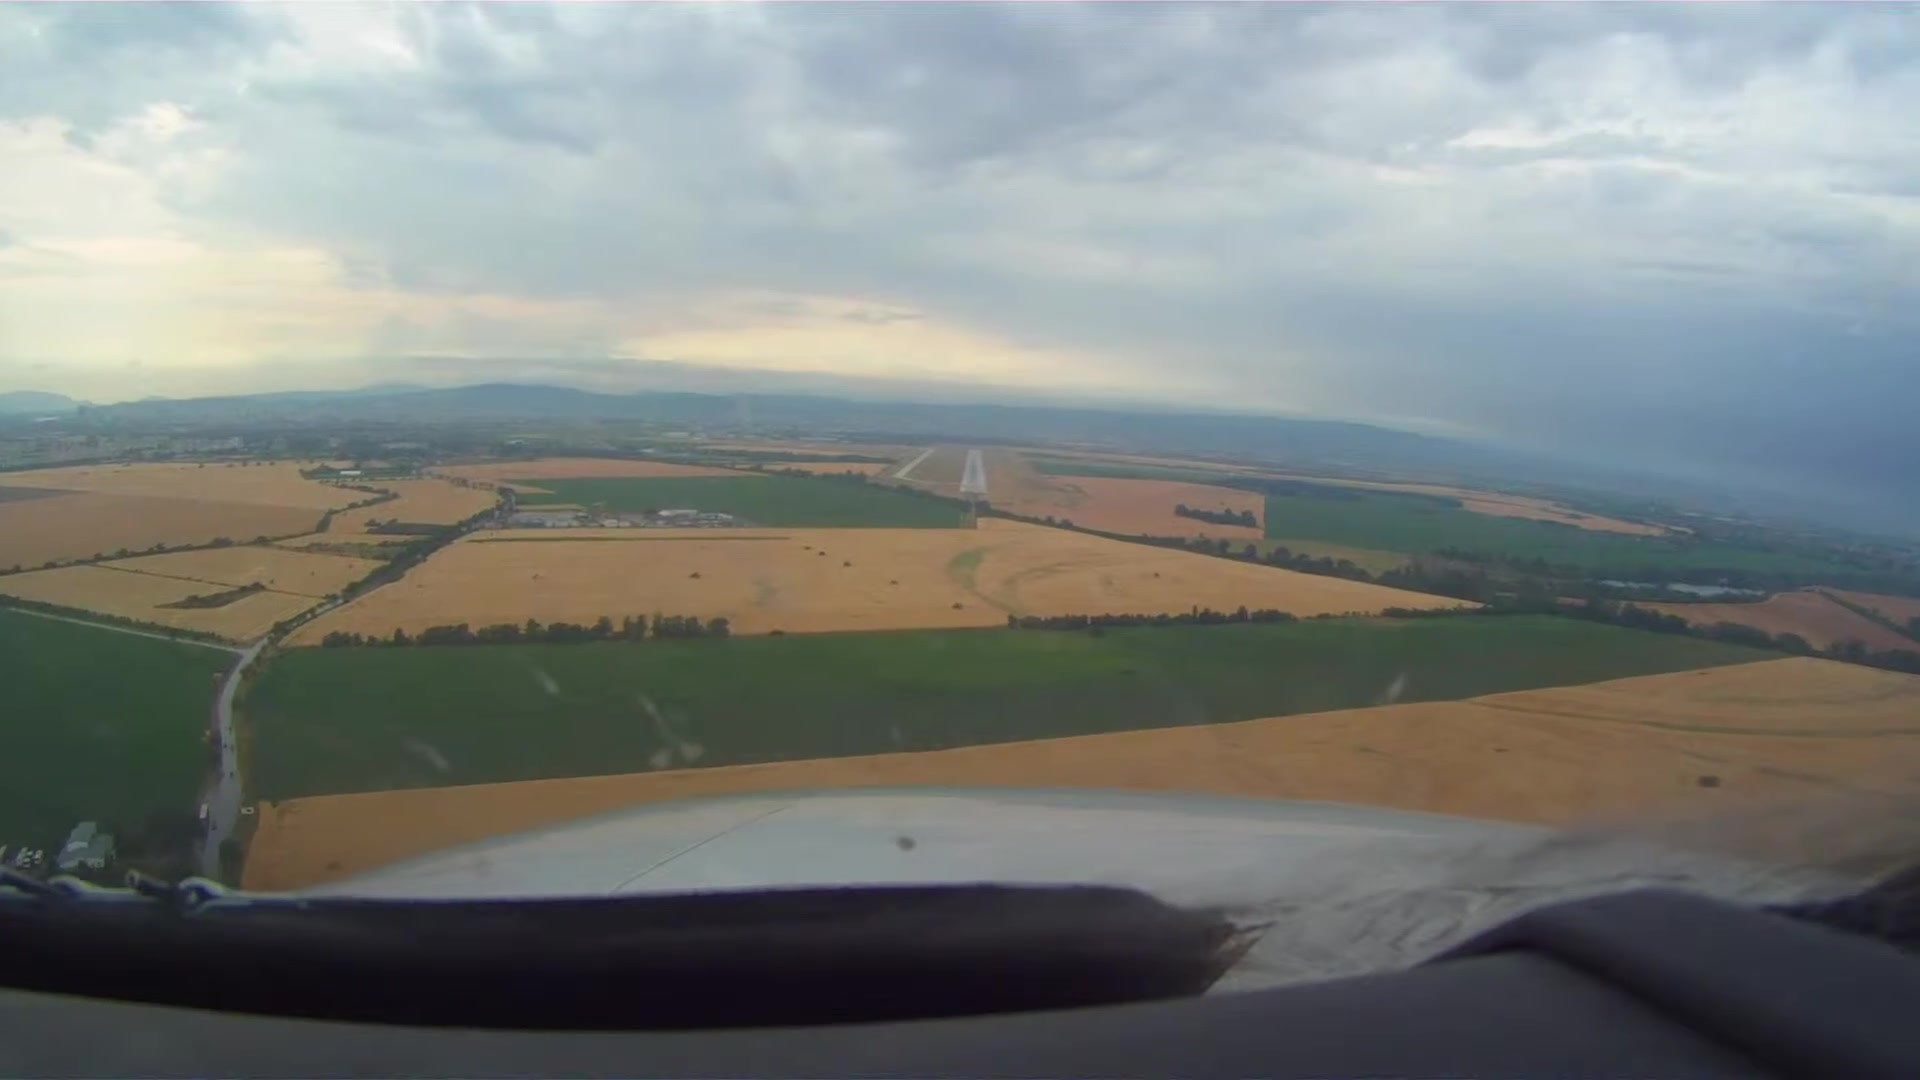runway: (956, 447, 993, 497)
